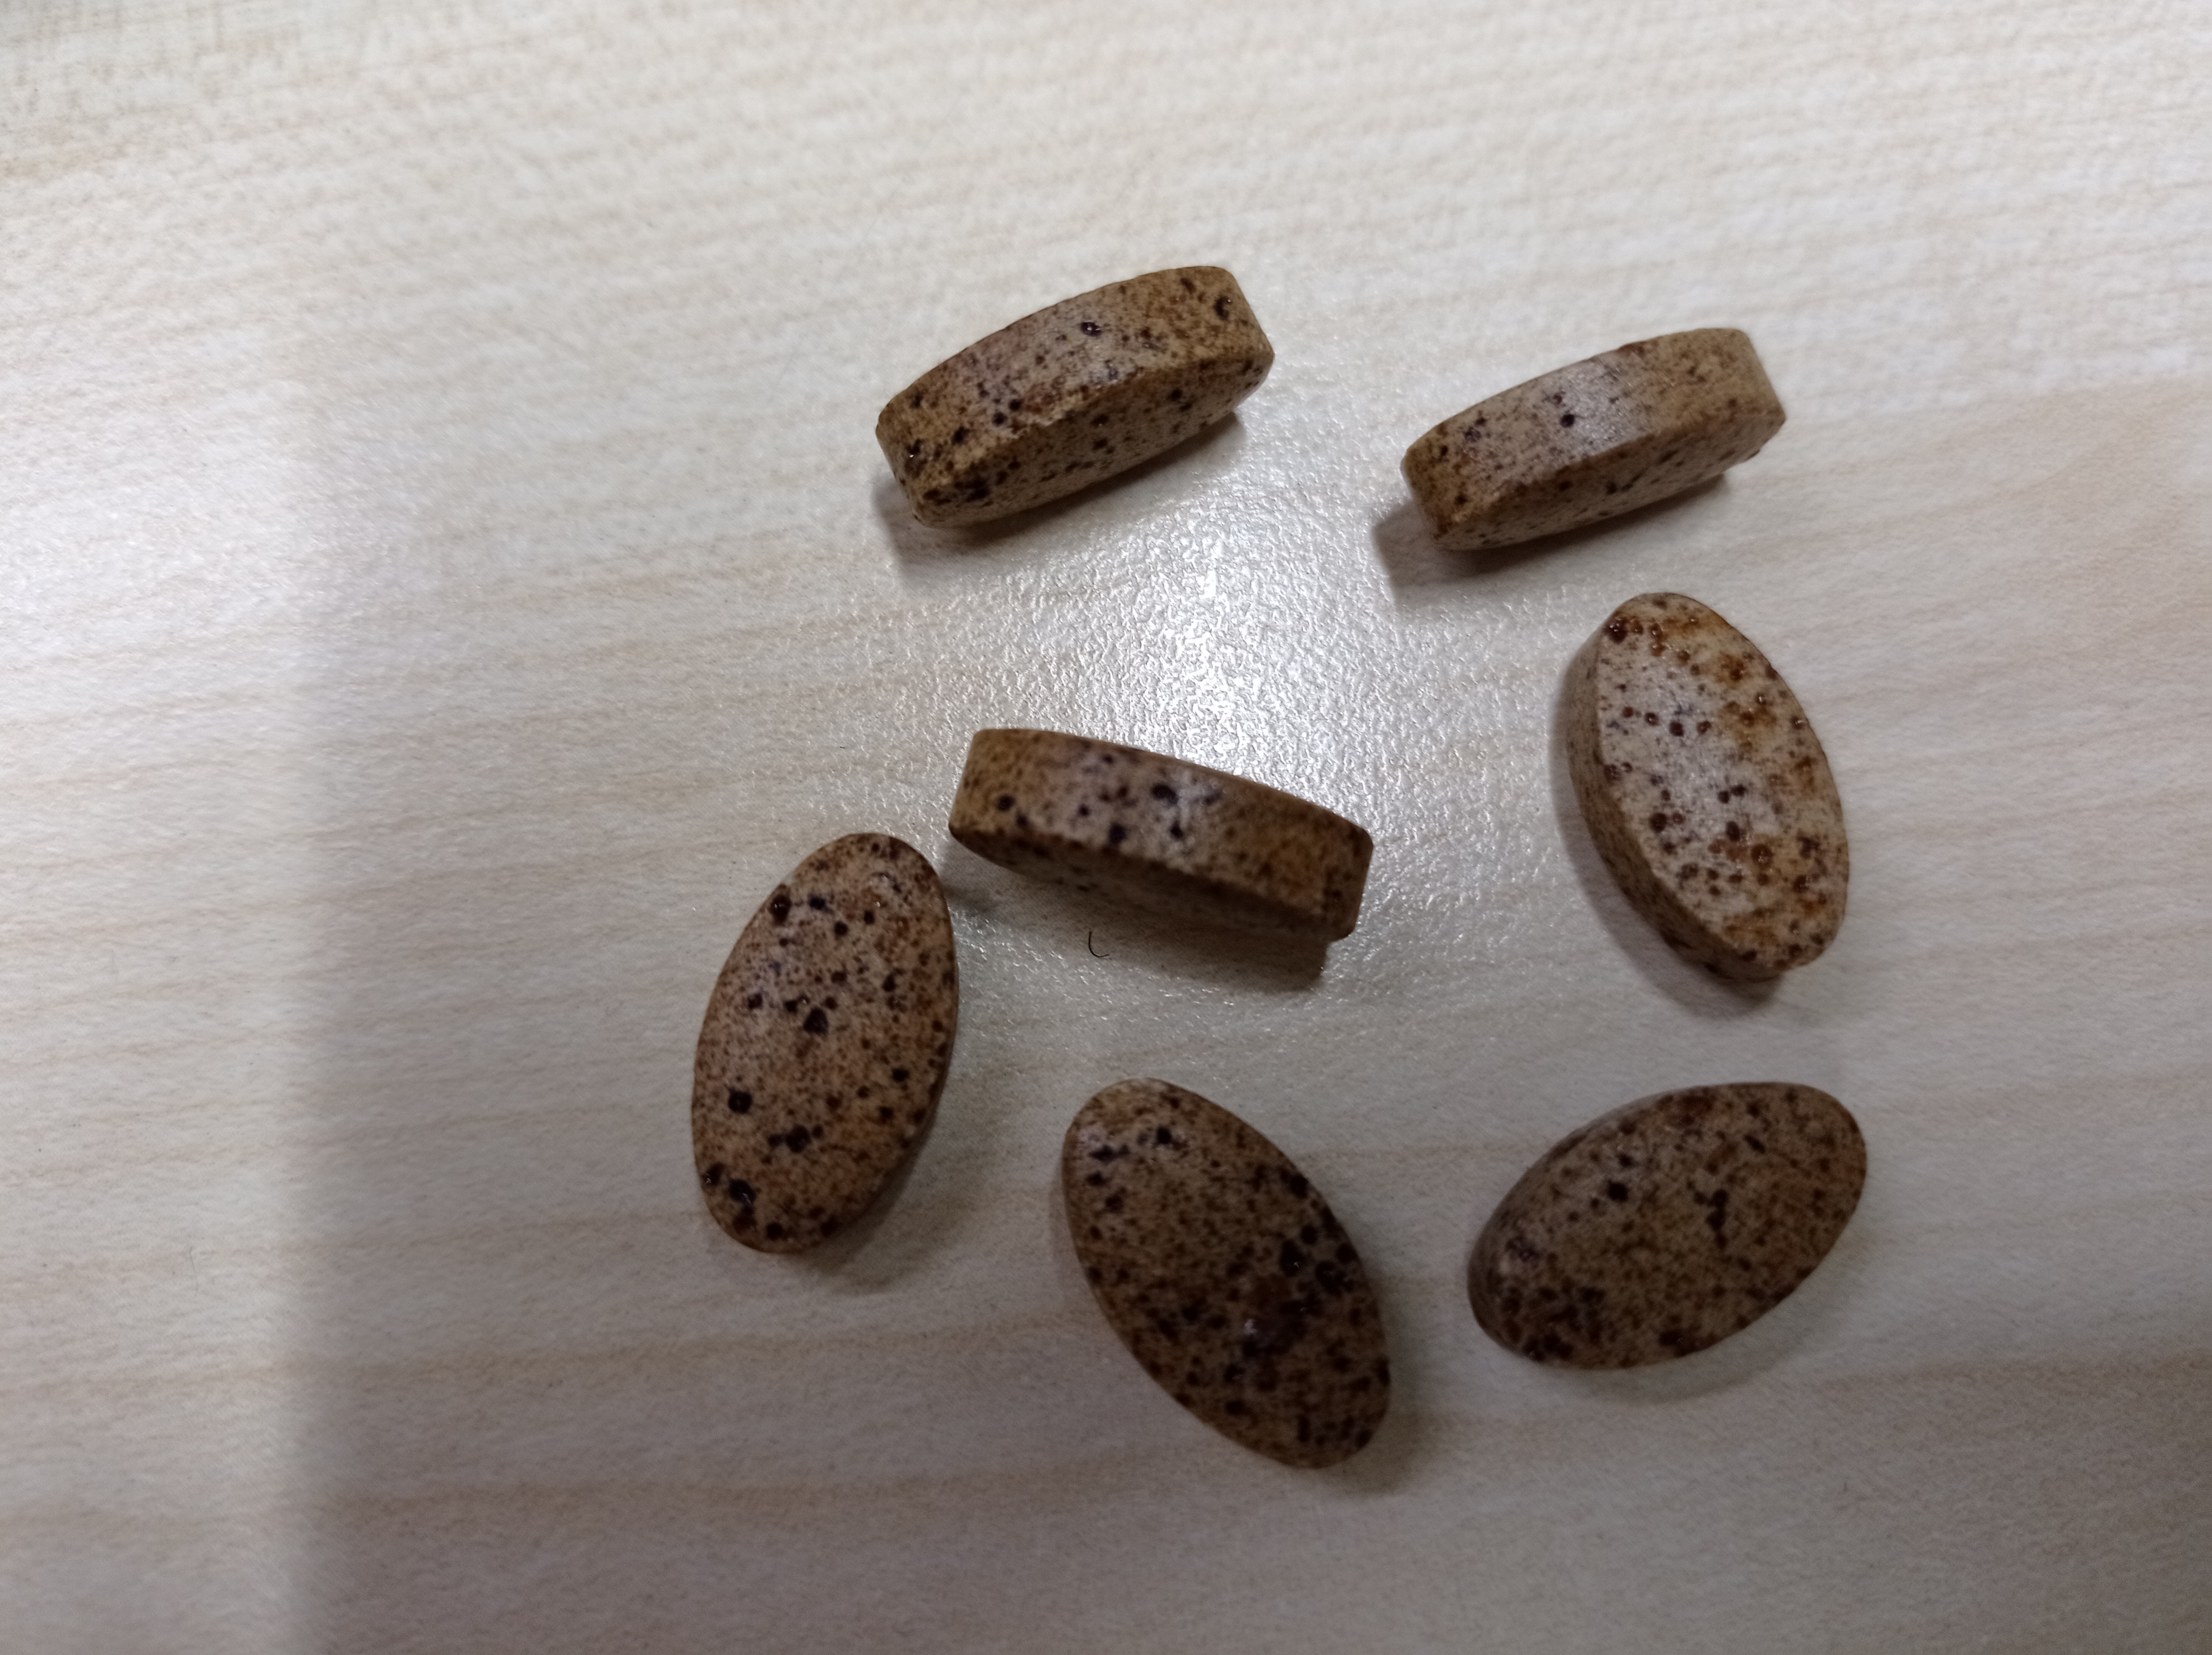brown_medicine: (1056, 1078, 1395, 1474), (1467, 1080, 1871, 1372), (690, 833, 963, 1259), (1566, 596, 1851, 986), (876, 266, 1277, 528), (945, 725, 1380, 954), (1399, 325, 1786, 553)
